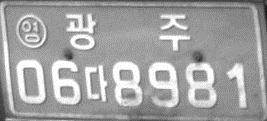0: (16, 58, 47, 105)
1: (222, 61, 254, 109)
6: (50, 59, 81, 105)
8: (184, 61, 217, 109), (111, 60, 143, 107)
9: (147, 61, 179, 108)
광주_D: (64, 13, 190, 51)
다: (83, 64, 108, 102)
영: (15, 13, 47, 49)
